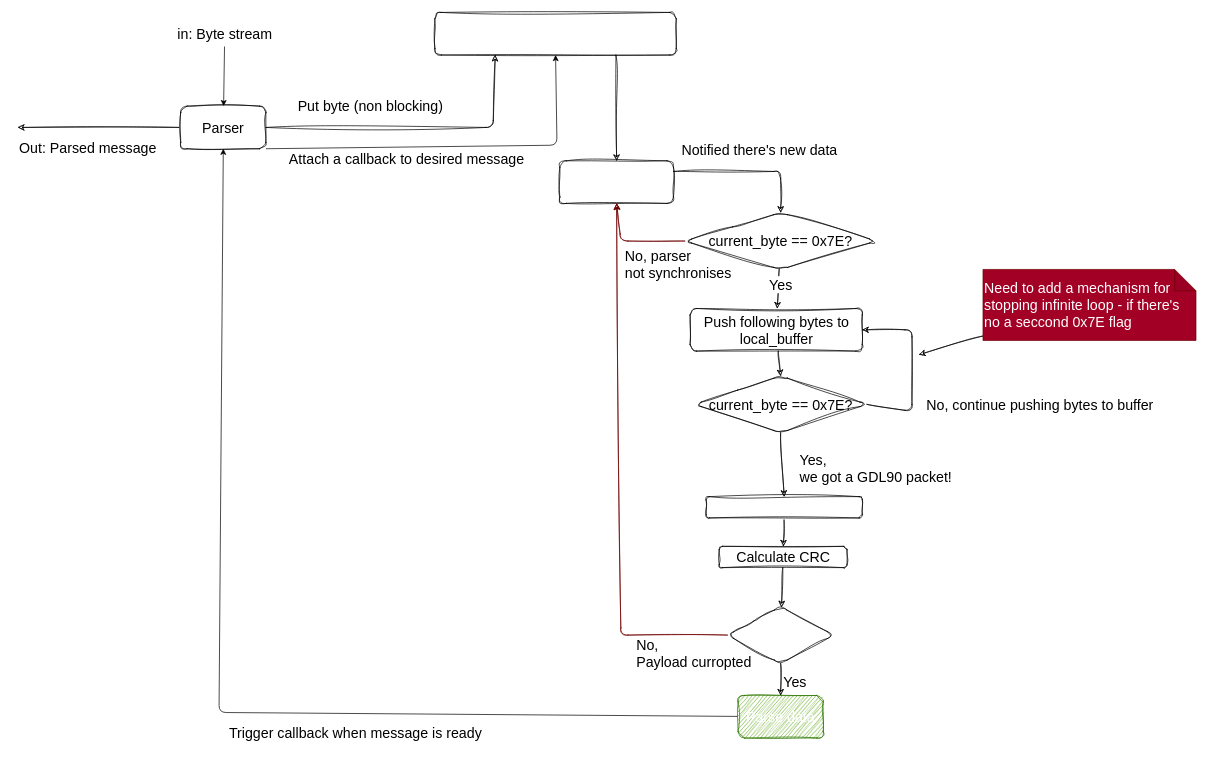
This 1208x758 diagram has some shape labels left out. Here are the shapes that lost their labels. From the top down, the centre of each, then its label:
At pixel 555 33: "shared memory for processing".
At pixel 616 181: "parser_thread".
At pixel 783 507: "Fix byte stuffing".
At pixel 780 634: "CRC match".
